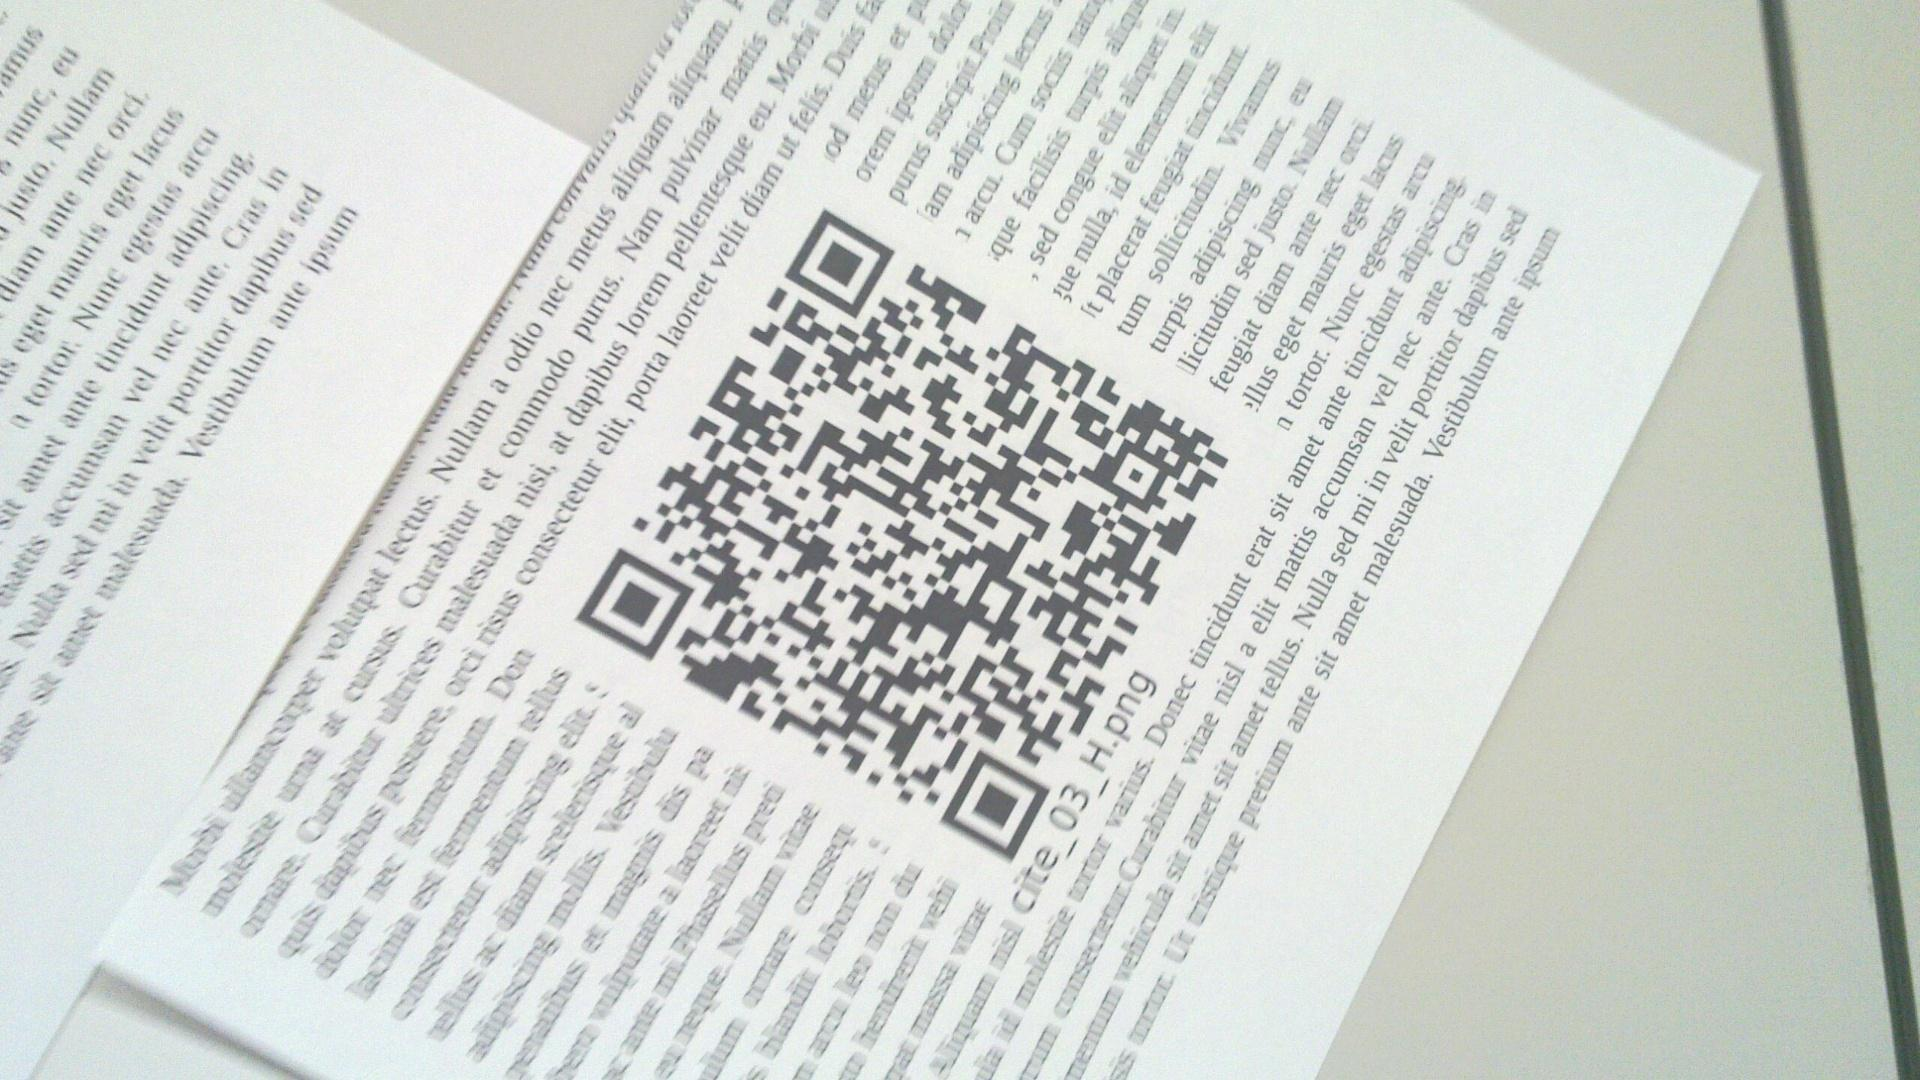Finder pattern: (574, 551, 694, 659), (785, 200, 895, 316), (934, 749, 1047, 858)
